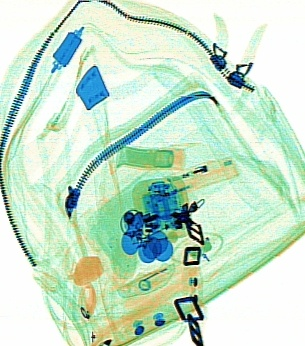lighter: (146, 150, 240, 204)
